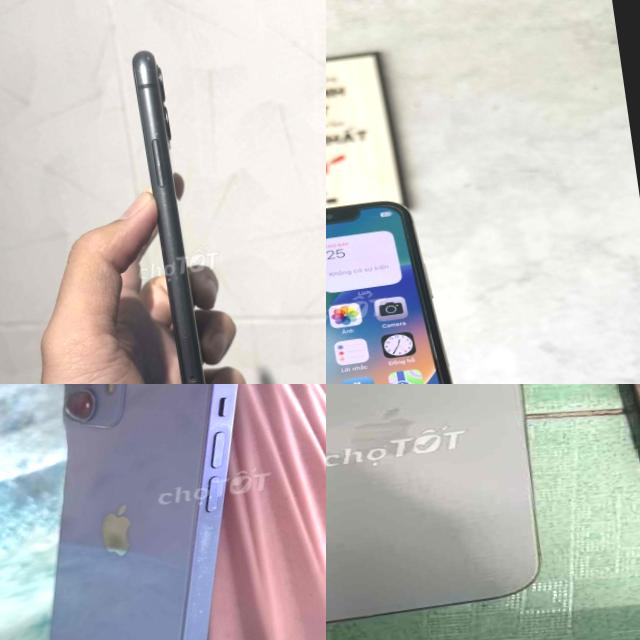gen_11: (111, 25, 244, 384)
gen_12_13: (0, 384, 302, 640)
gen_15: (326, 384, 582, 640)
gen_x_xs: (326, 183, 499, 384)
scratch: (151, 182, 198, 350), (132, 50, 171, 142)
